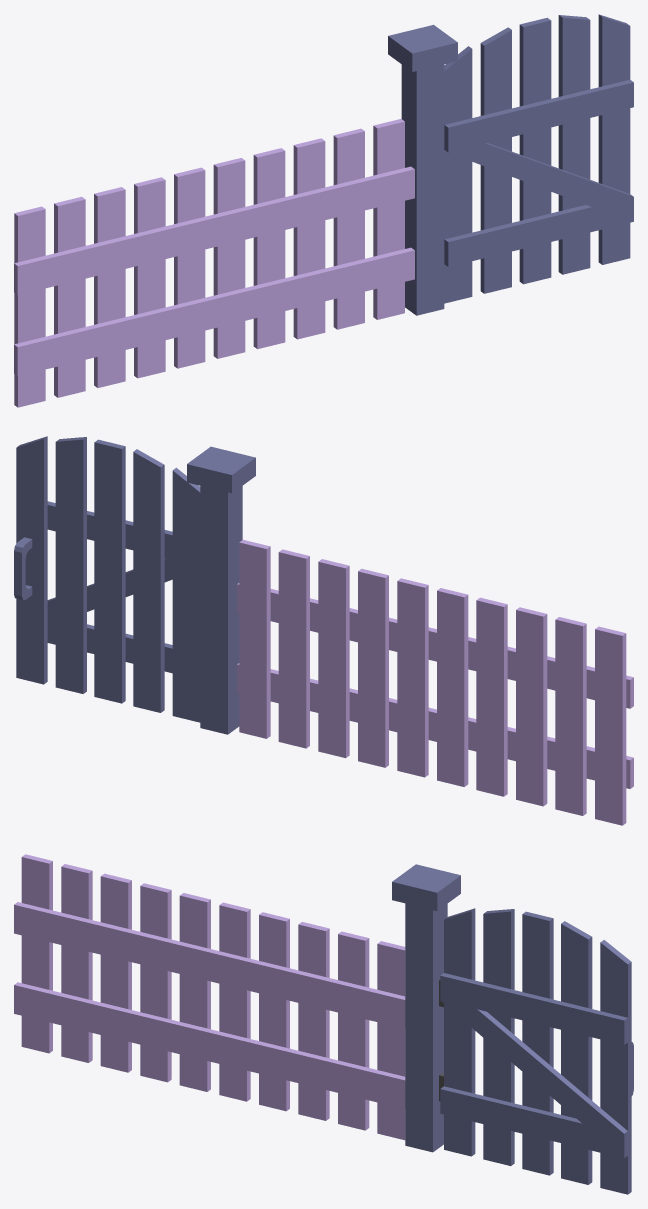
The model's file is Fence_with_gate.fbx.
The picture shows the model from 3 angles, top to bottom: view 1: azimuth 30°, elevation 25°; view 2: azimuth 150°, elevation 25°; view 3: azimuth 330°, elevation 25°; orthographic projection.
Parts seen in each view (by area): view 1: Fence_with_gate; view 2: Fence_with_gate; view 3: Fence_with_gate.
Part boxes in pixels (box(x1,y1,x2,y2)): Fence_with_gate: box(14, 14, 633, 407); Fence_with_gate: box(14, 436, 633, 825); Fence_with_gate: box(14, 854, 633, 1194).
Size of the model in its own units: 463 by 31.88 by 192.
